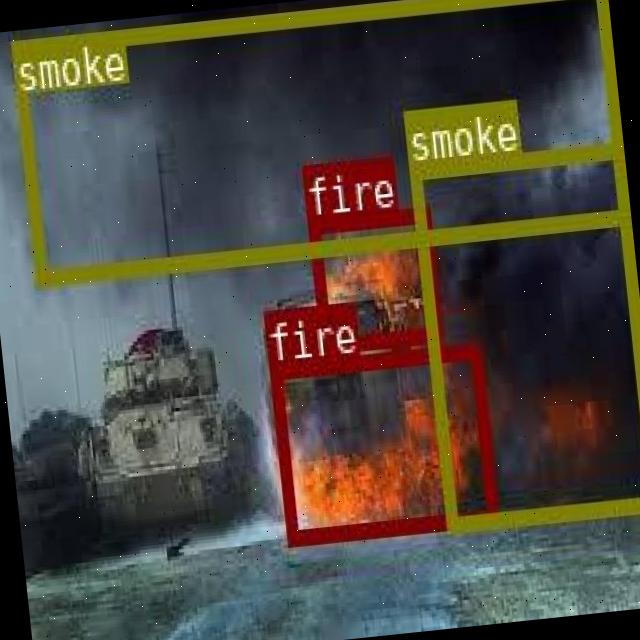fire: (268, 342, 496, 544), (305, 203, 442, 352)
smoke: (8, 0, 626, 281), (408, 141, 640, 528)
